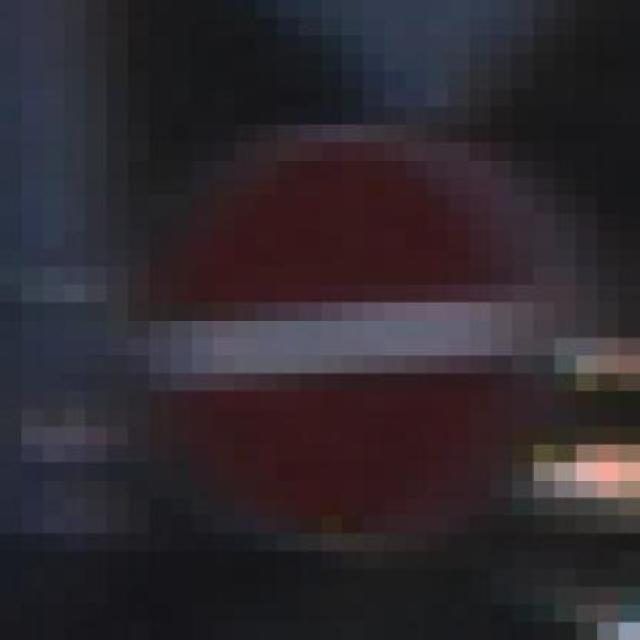No Entry: (106, 124, 619, 551)
